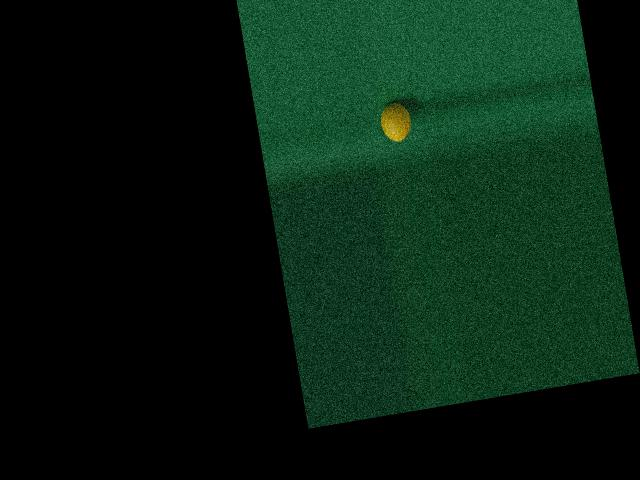egg: (377, 100, 412, 144)
